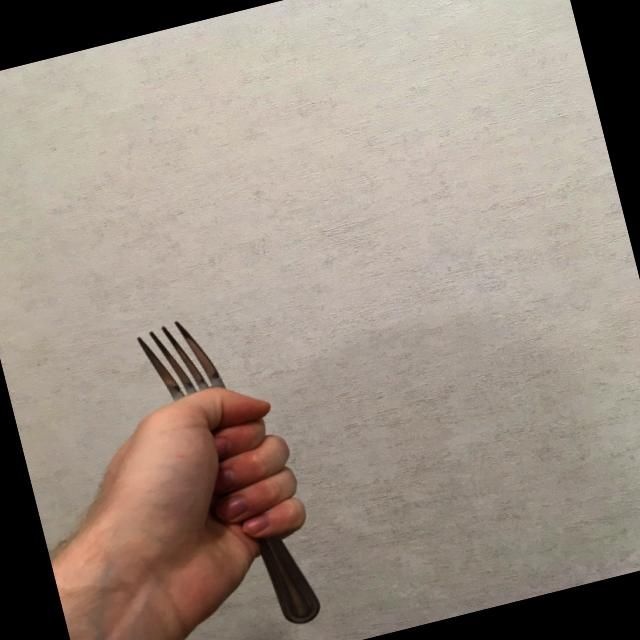fork: (129, 304, 328, 640)
